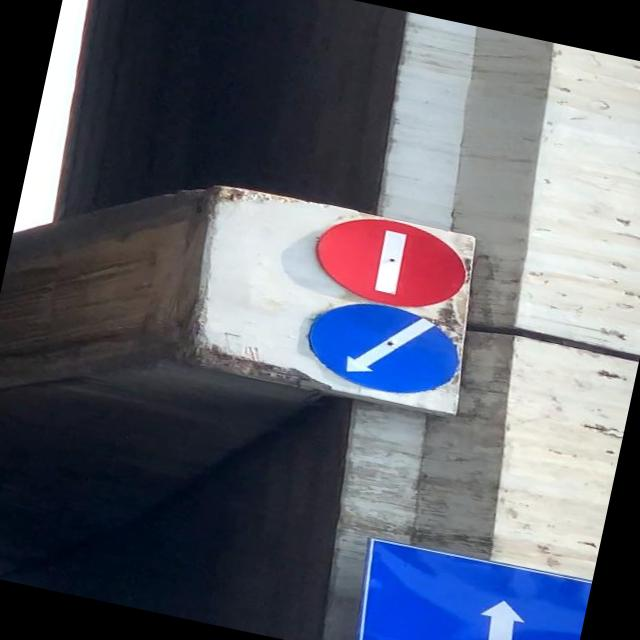P-102: (308, 208, 471, 316)
R-302a: (300, 293, 467, 405)
